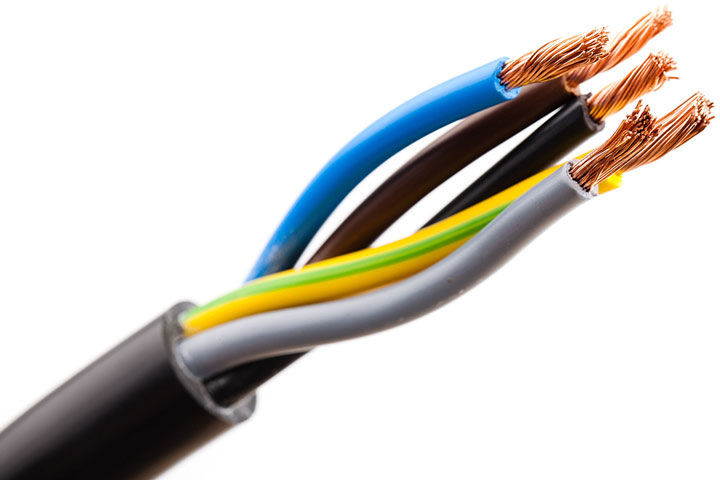Nonrec_Tangler: (1, 17, 674, 468)
